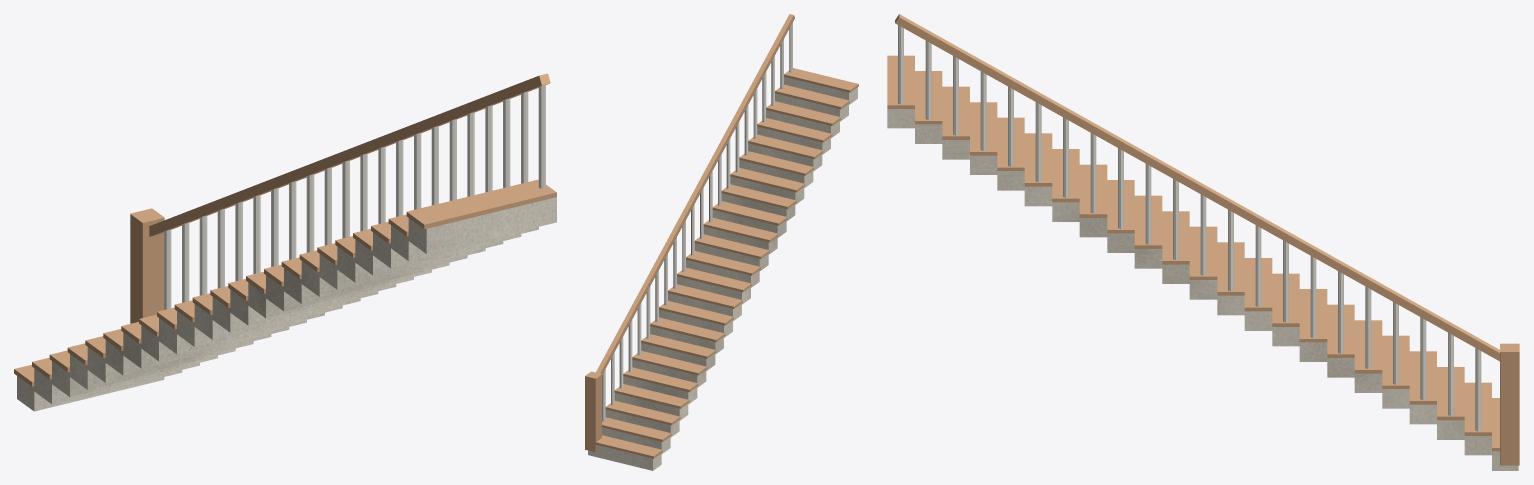
Rendered from lib_stair.glb.
3 views of the same model, side by side, from view 1: azimuth 30°, elevation 25°; view 2: azimuth 150°, elevation 25°; view 3: azimuth 270°, elevation 25° (orthographic). The views are drawn at different scales.
Parts seen in each view (by area): view 1: lib_stair_plaster, lib_stair_wood, lib_stair_cornice; view 2: lib_stair_wood, lib_stair_plaster, lib_stair_cornice; view 3: lib_stair_wood, lib_stair_plaster, lib_stair_cornice.
Boxes of the visible parts, x1,y1,x2,y2 form: lib_stair_plaster: (17,197,556,411); lib_stair_wood: (14,73,556,386); lib_stair_cornice: (164,85,545,309); lib_stair_wood: (585,14,858,458); lib_stair_plaster: (588,77,857,470); lib_stair_cornice: (602,22,792,421); lib_stair_wood: (887,14,1519,465); lib_stair_plaster: (887,109,1518,470); lib_stair_cornice: (898,25,1481,431).
Bounding box in the file's own units: 1.25 × 5.09 × 6.44.
Materials: 3 (1 with a texture image).
